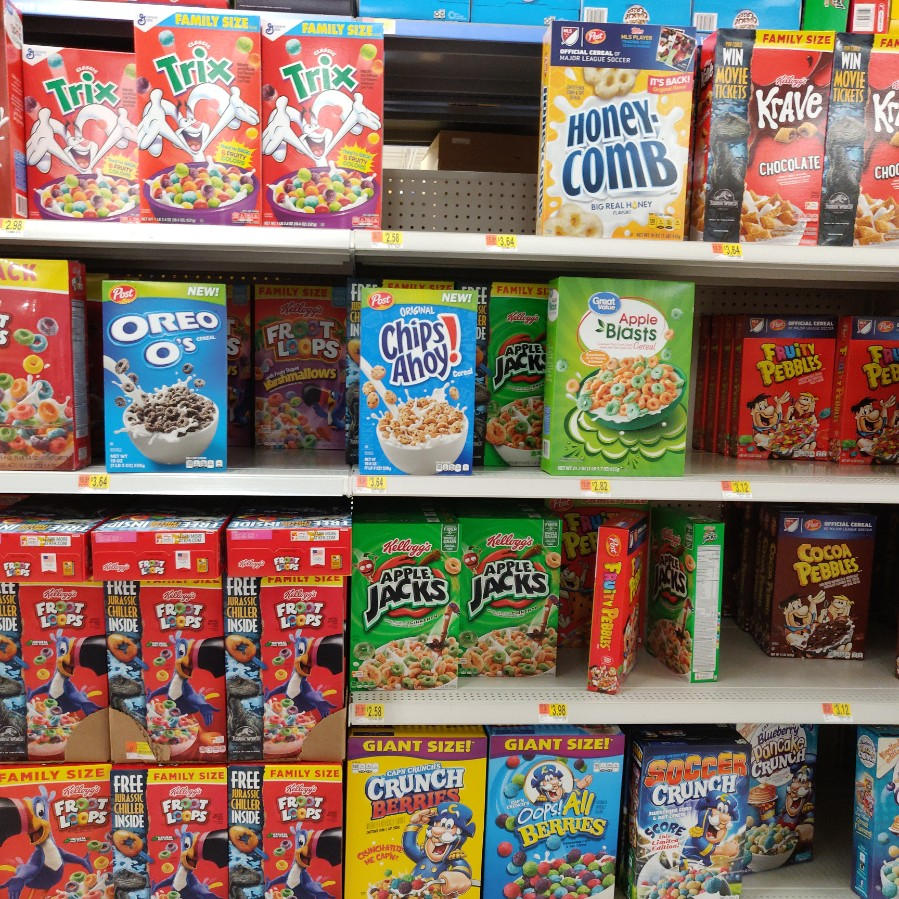Chips Ahoys-565717529: (357, 279, 476, 482)
Honey Comb- 009288857: (532, 25, 690, 244)
Oreo-563424384: (96, 276, 225, 472)
